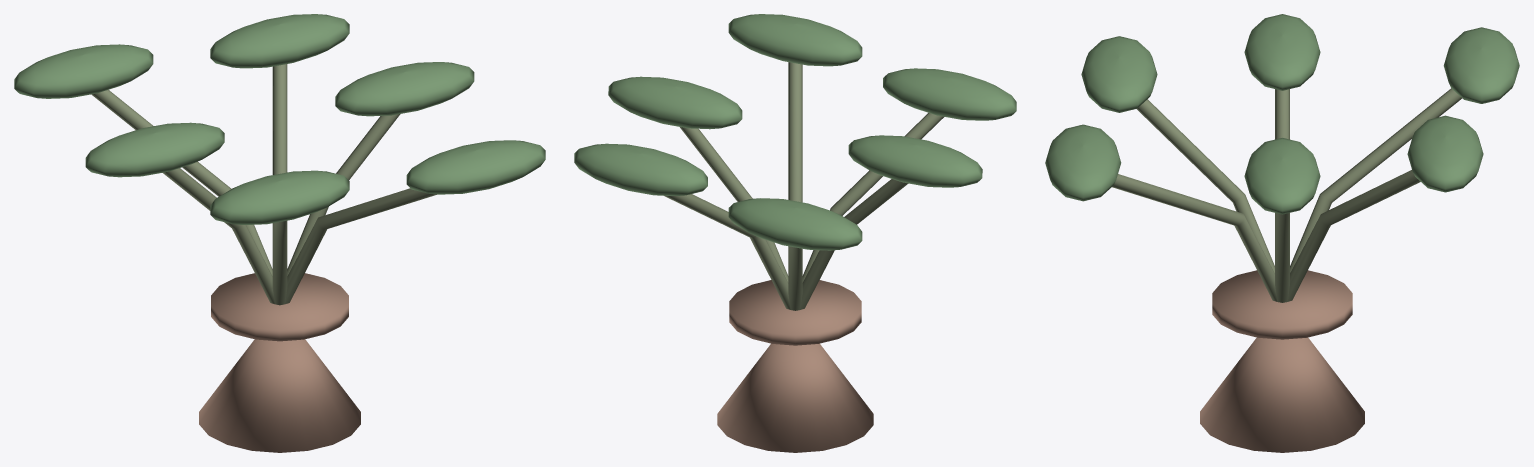
Rendered from plant.glb.
The picture shows the model from 3 angles, left to right: view 1: azimuth 30°, elevation 25°; view 2: azimuth 150°, elevation 25°; view 3: azimuth 270°, elevation 25°; orthographic projection. The views are drawn at different scales.
Parts seen in each view (by area): view 1: plant; view 2: plant; view 3: plant.
Part boxes in pixels (x1,y1,x2,y2): plant: [14, 14, 545, 452]; plant: [574, 14, 1016, 452]; plant: [1045, 14, 1519, 452].
Size of the model in its own units: 1.09 by 0.8455 by 1.13.
